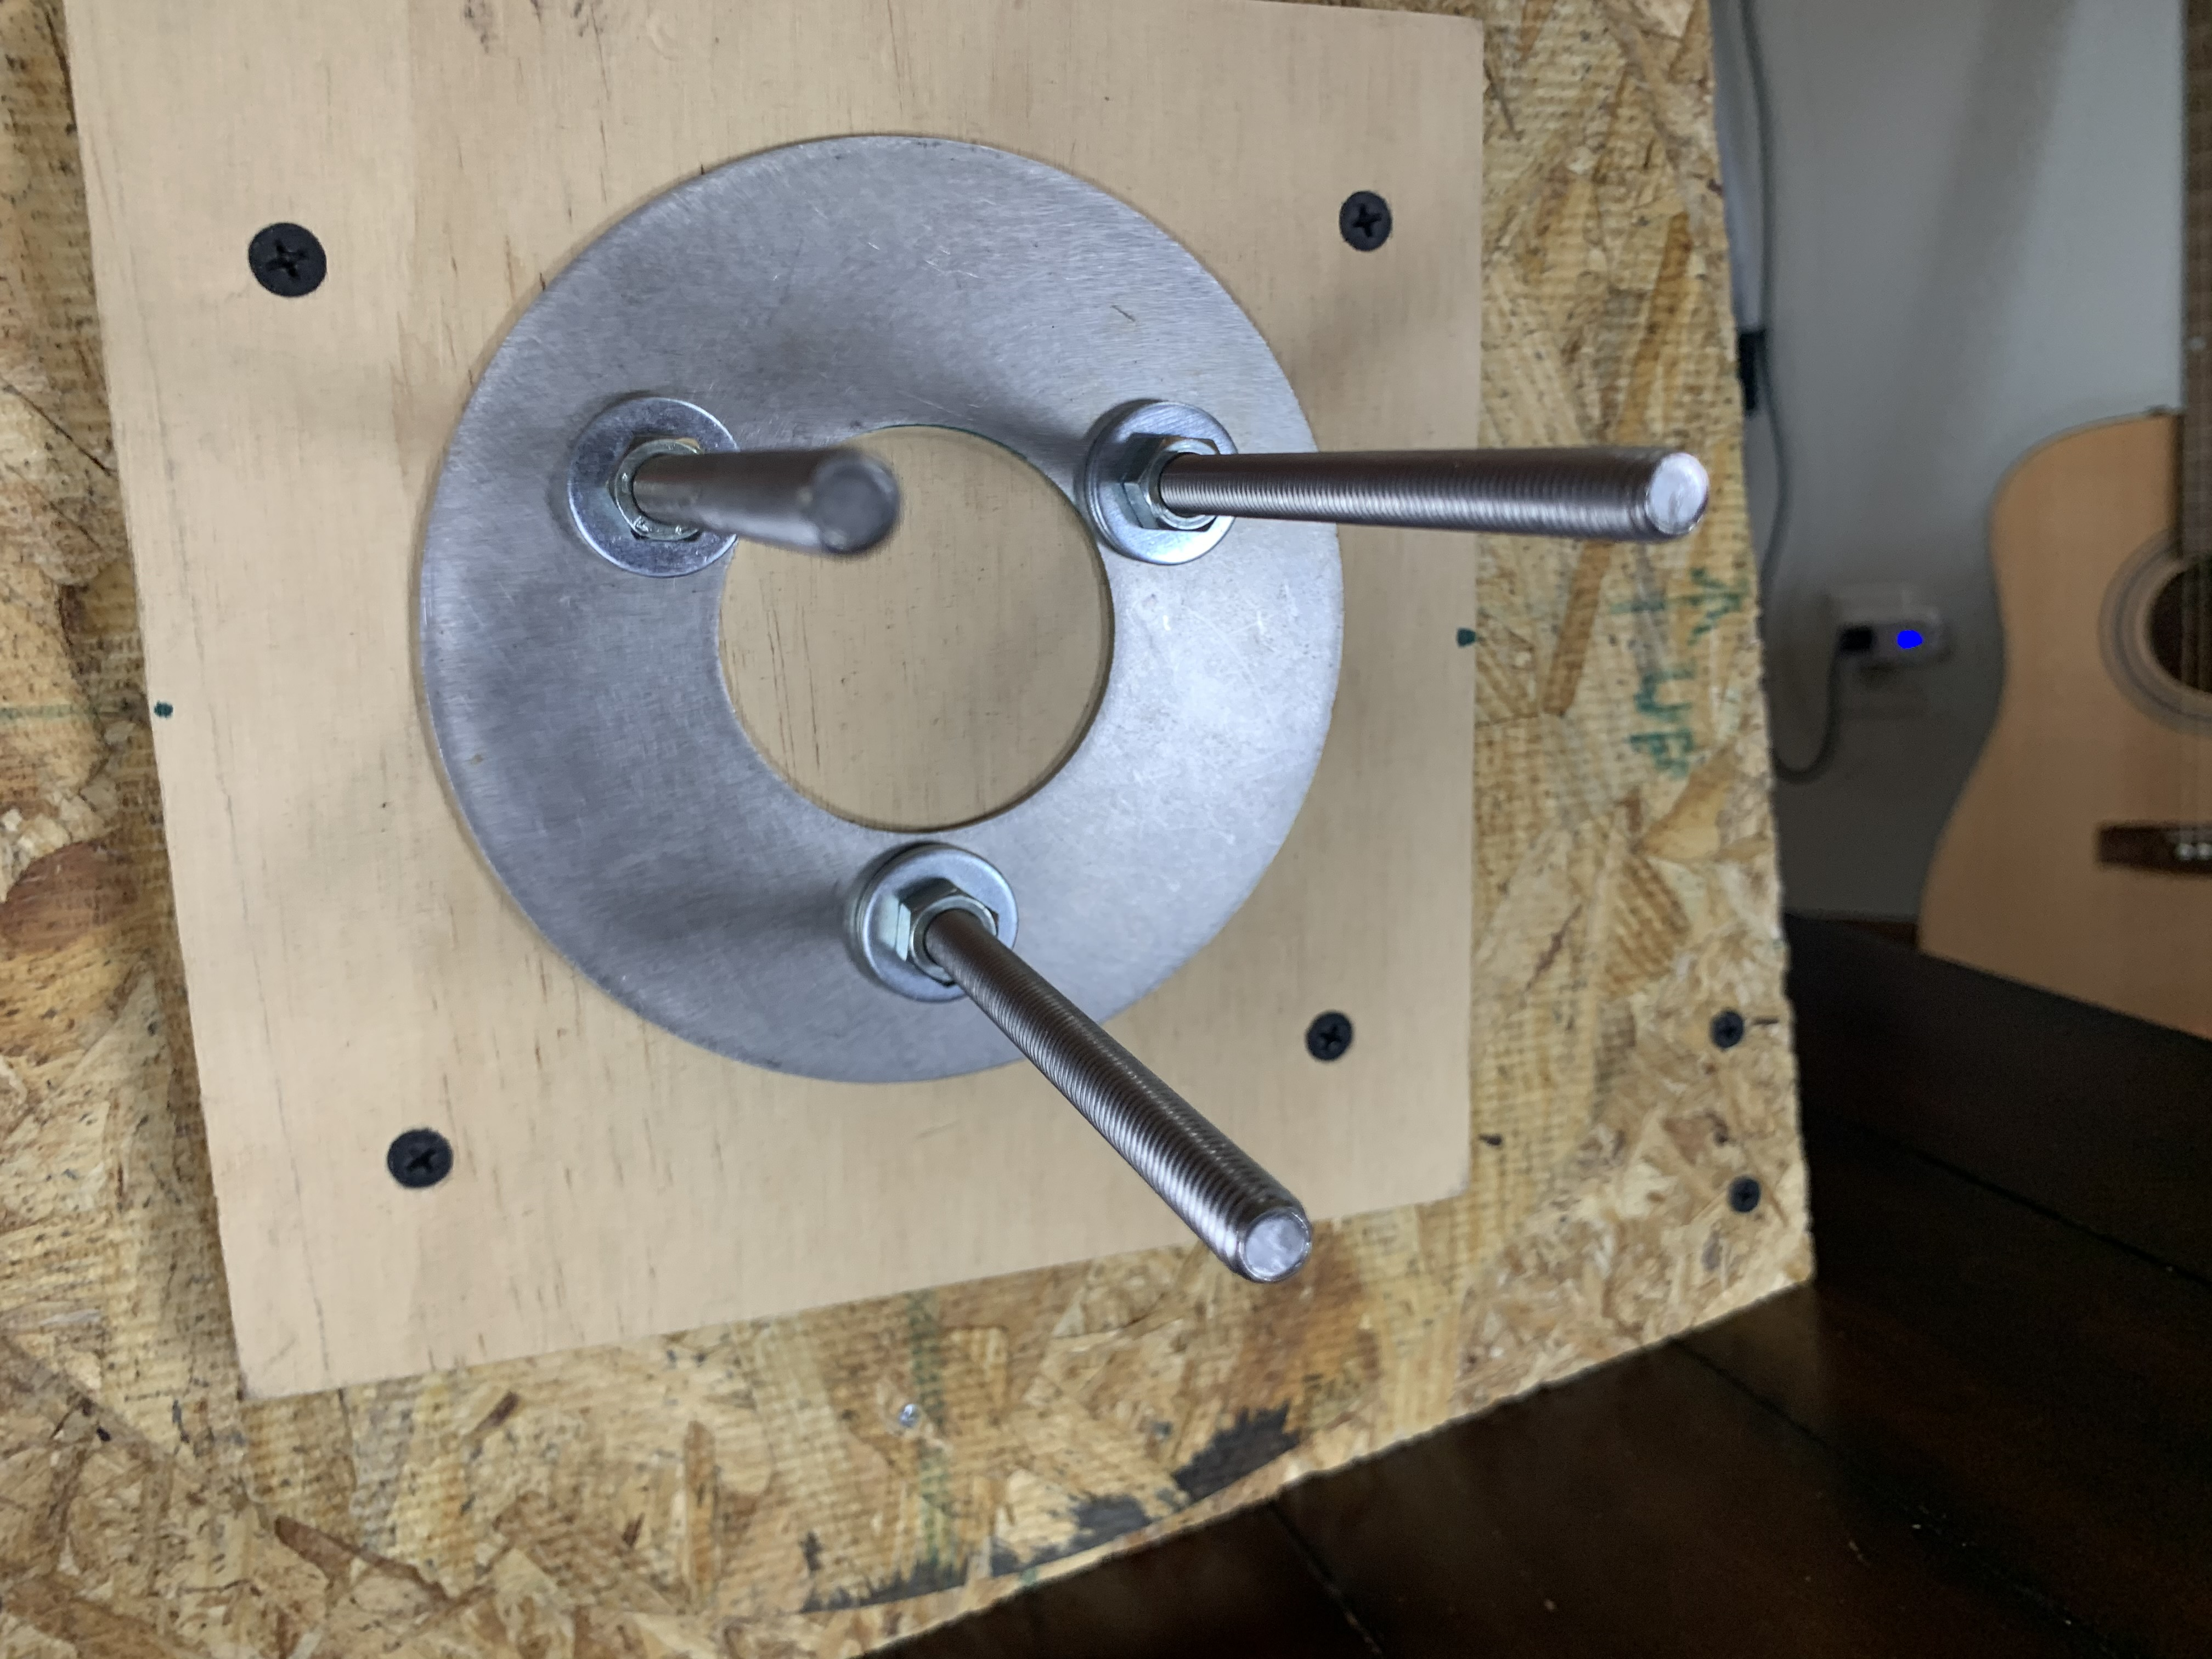bolt: (559, 390, 740, 582), (845, 843, 1019, 1007), (1076, 403, 1237, 579)
